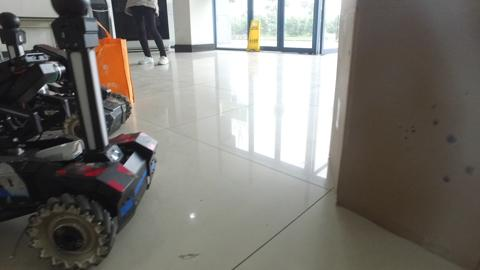chariot: (4, 1, 154, 268)
